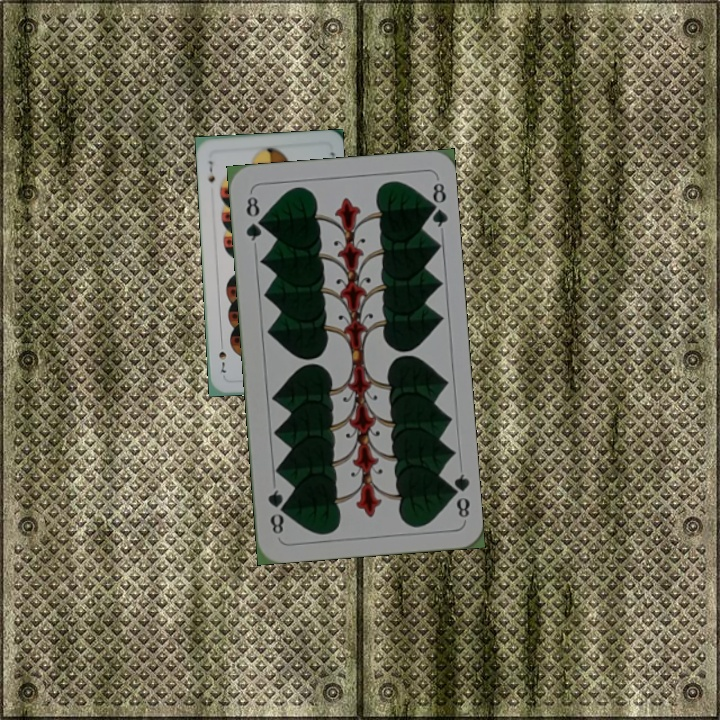G8: (445, 469, 472, 521), (241, 192, 265, 243)
S7: (204, 157, 217, 185)
